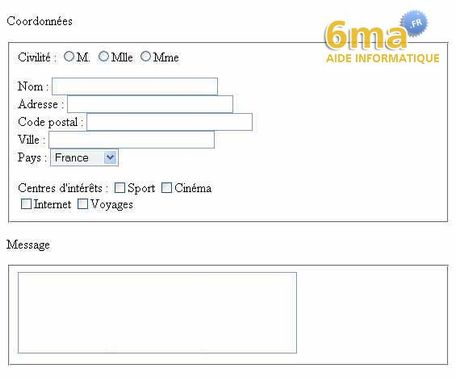_form_: (1, 1, 416, 380)
checkbox: (112, 181, 128, 194), (76, 197, 90, 211), (20, 197, 35, 210), (161, 181, 174, 194)
checkbox_with_label: (76, 195, 134, 212), (160, 179, 212, 196), (19, 195, 71, 212), (110, 179, 156, 195)
field: (15, 271, 299, 356), (83, 110, 254, 131), (50, 76, 219, 97), (62, 94, 235, 114), (46, 129, 215, 149)
field_with_label: (19, 109, 255, 132), (19, 93, 237, 115), (18, 75, 222, 98), (18, 128, 216, 150), (18, 148, 122, 168)
radio: (63, 50, 76, 63), (140, 50, 152, 63), (99, 50, 111, 62)
radio_with_label: (138, 48, 179, 64), (97, 47, 133, 64), (61, 48, 91, 64)
select: (48, 148, 120, 167)
